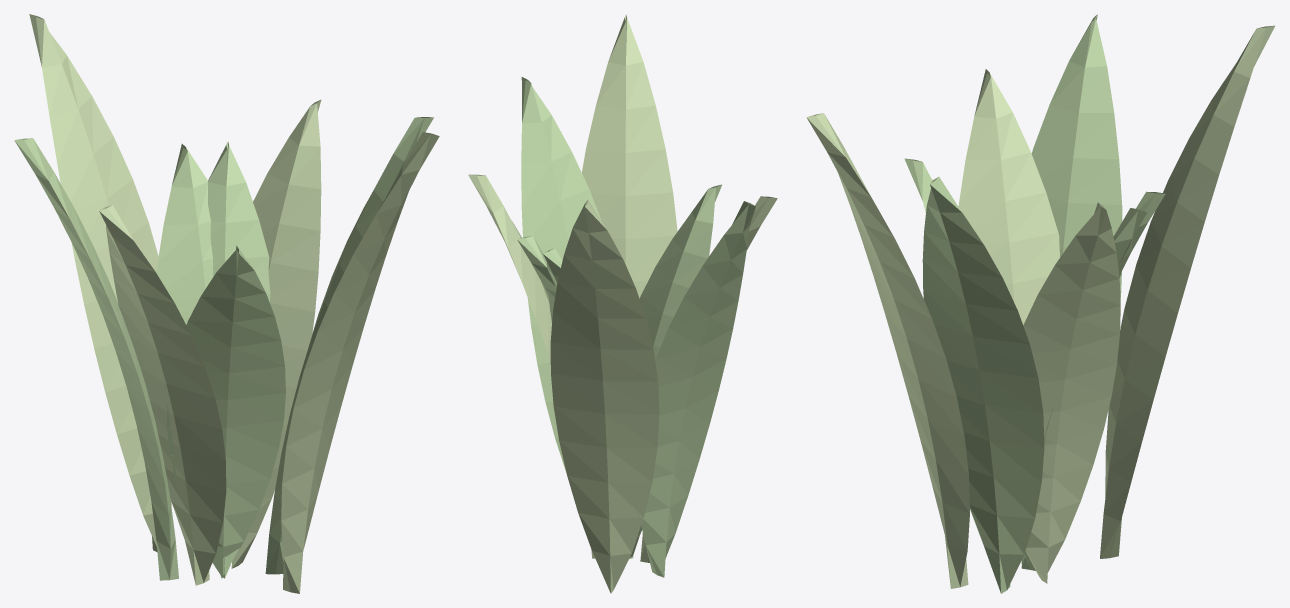
File: reeds_tall.glb
3 renders of one model, left to right at view 1: azimuth 30°, elevation 25°; view 2: azimuth 150°, elevation 25°; view 3: azimuth 270°, elevation 25°, orthographic. The views are drawn at different scales.
Visible parts, largest first — view 1: reeds_tall_01, reeds_tall_04, reeds_tall_03, reeds_tall_07, reeds_tall_05, reeds_tall_06, reeds_tall_08, reeds_tall_00, reeds_tall_02; view 2: reeds_tall_03, reeds_tall_06, reeds_tall_07, reeds_tall_02, reeds_tall_04, reeds_tall_05, reeds_tall_00, reeds_tall_01, reeds_tall_08; view 3: reeds_tall_02, reeds_tall_05, reeds_tall_03, reeds_tall_07, reeds_tall_01, reeds_tall_06, reeds_tall_00, reeds_tall_08, reeds_tall_04.
Part boxes in pixels (x1=…): reeds_tall_01: x1=99, y1=205, x2=226, y2=585; reeds_tall_04: x1=167, y1=245, x2=285, y2=578; reeds_tall_03: x1=29, y1=14, x2=171, y2=551; reeds_tall_07: x1=281, y1=132, x2=439, y2=593; reeds_tall_05: x1=231, y1=99, x2=321, y2=568; reeds_tall_06: x1=14, y1=138, x2=178, y2=580; reeds_tall_08: x1=156, y1=144, x2=231, y2=578; reeds_tall_00: x1=208, y1=141, x2=270, y2=578; reeds_tall_02: x1=265, y1=117, x2=433, y2=574; reeds_tall_03: x1=550, y1=199, x2=659, y2=593; reeds_tall_06: x1=641, y1=201, x2=755, y2=577; reeds_tall_07: x1=582, y1=14, x2=677, y2=298; reeds_tall_02: x1=521, y1=77, x2=601, y2=473; reeds_tall_04: x1=630, y1=184, x2=721, y2=557; reeds_tall_05: x1=468, y1=174, x2=595, y2=558; reeds_tall_00: x1=517, y1=236, x2=633, y2=559; reeds_tall_01: x1=640, y1=196, x2=777, y2=562; reeds_tall_08: x1=543, y1=248, x2=641, y2=539; reeds_tall_02: x1=922, y1=177, x2=1044, y2=593; reeds_tall_05: x1=1023, y1=202, x2=1120, y2=583; reeds_tall_03: x1=1100, y1=25, x2=1274, y2=558; reeds_tall_07: x1=806, y1=113, x2=969, y2=588; reeds_tall_01: x1=958, y1=69, x2=1060, y2=325; reeds_tall_06: x1=1031, y1=14, x2=1122, y2=297; reeds_tall_00: x1=1022, y1=208, x2=1147, y2=570; reeds_tall_08: x1=1021, y1=191, x2=1165, y2=569; reeds_tall_04: x1=904, y1=158, x2=1025, y2=563.
Bounding box in the file's own units: 0.875 × 1.22 × 1.02.
